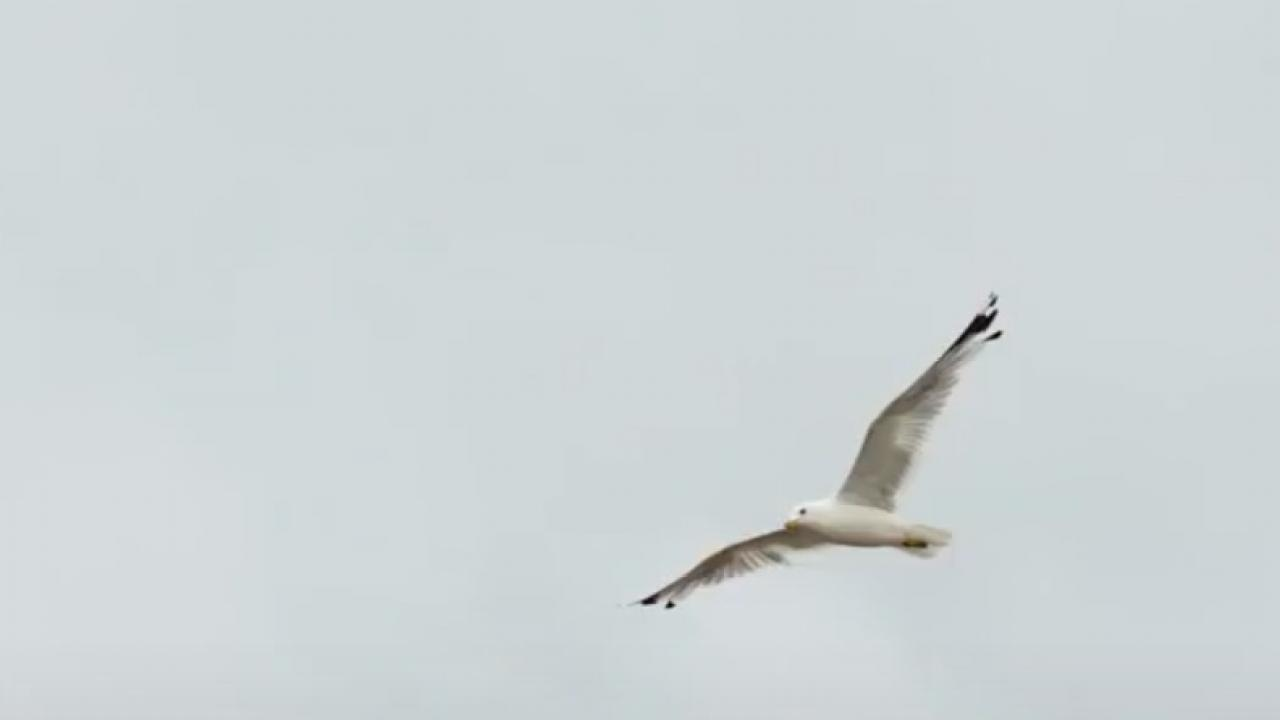Bird: (621, 283, 1022, 628)
